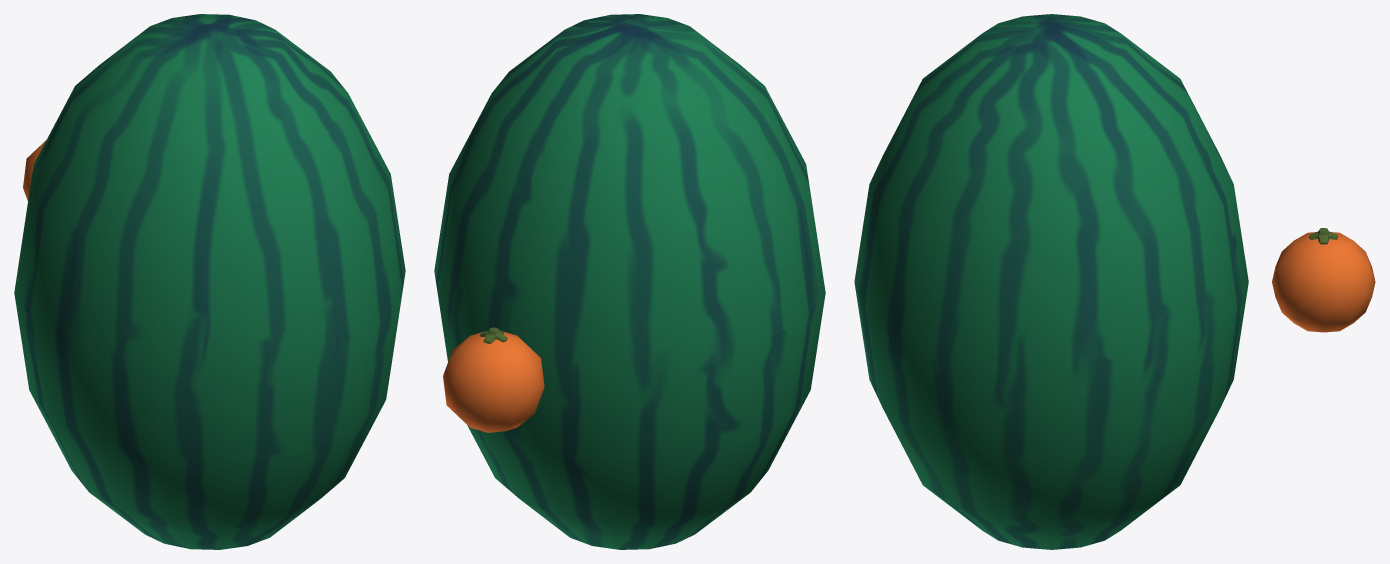
File: fruits_1.glb
3 views of the same model, side by side, from view 1: azimuth 30°, elevation 25°; view 2: azimuth 150°, elevation 25°; view 3: azimuth 270°, elevation 25° (orthographic).
Parts seen in each view (by area): view 1: Sphere; view 2: Sphere, Orange.001; view 3: Sphere, Orange.001.
Part boxes in pixels (bbox=[...]): Sphere: bbox=[14, 14, 405, 549]; Sphere: bbox=[434, 14, 825, 549]; Orange.001: bbox=[443, 327, 544, 432]; Sphere: bbox=[854, 14, 1248, 549]; Orange.001: bbox=[1272, 228, 1375, 332].
Size of the model in its own units: 0.4 by 0.572 by 0.5286.
Materials: 3 (1 with a texture image).
